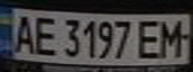1: (78, 17, 96, 59)
3: (57, 16, 81, 57)
7: (112, 17, 136, 60)
9: (97, 17, 118, 60)
A: (9, 11, 39, 54)
E: (133, 17, 166, 60), (30, 14, 60, 57)
M: (157, 17, 187, 59)
